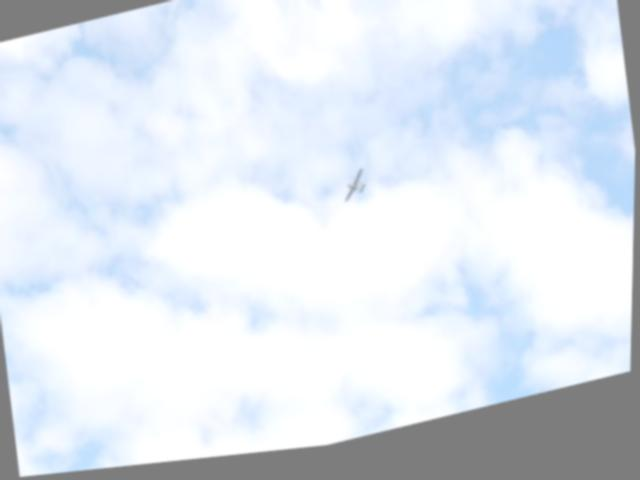uav: (340, 171, 371, 214)
